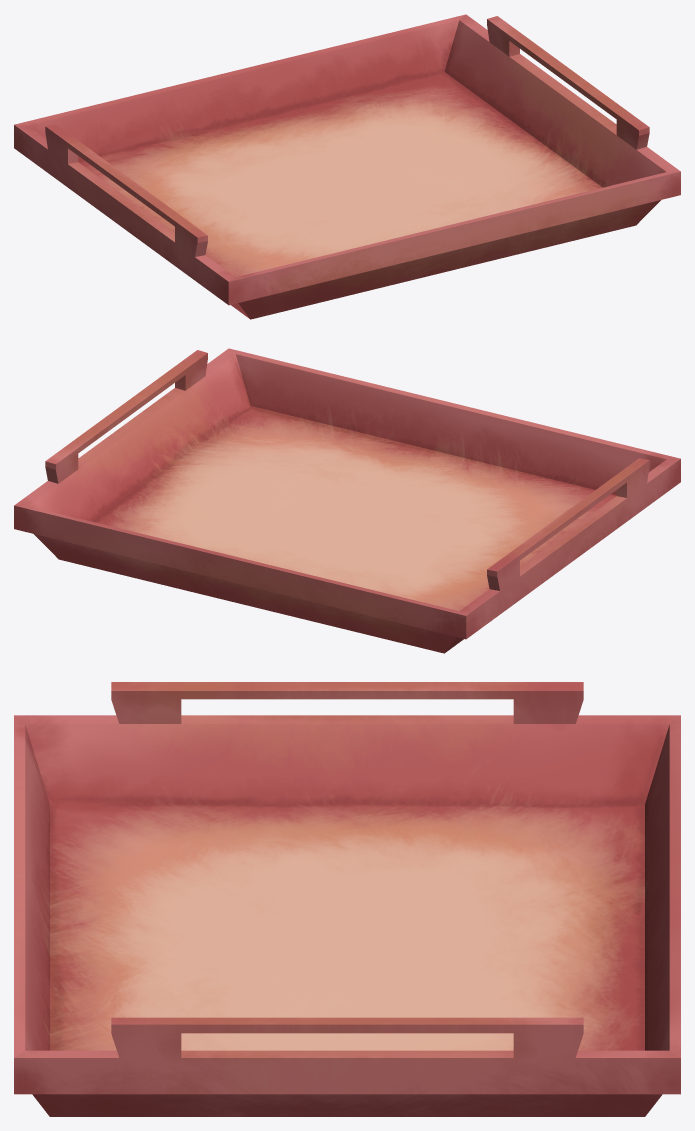
Rendered from Station_Empanador.fbx.
The picture shows the model from 3 angles, top to bottom: view 1: azimuth 30°, elevation 25°; view 2: azimuth 150°, elevation 25°; view 3: azimuth 270°, elevation 25°; orthographic projection. The views are drawn at different scales.
Visible parts, largest first — view 1: m_Empanador; view 2: m_Empanador; view 3: m_Empanador.
Boxes of the visible parts, <box> form: m_Empanador: <box>14,14,680,319</box>; m_Empanador: <box>14,348,680,653</box>; m_Empanador: <box>14,682,680,1116</box>.
Size of the model in its own units: 175 by 27.95 by 144.
Materials: 1 (1 with a texture image).
